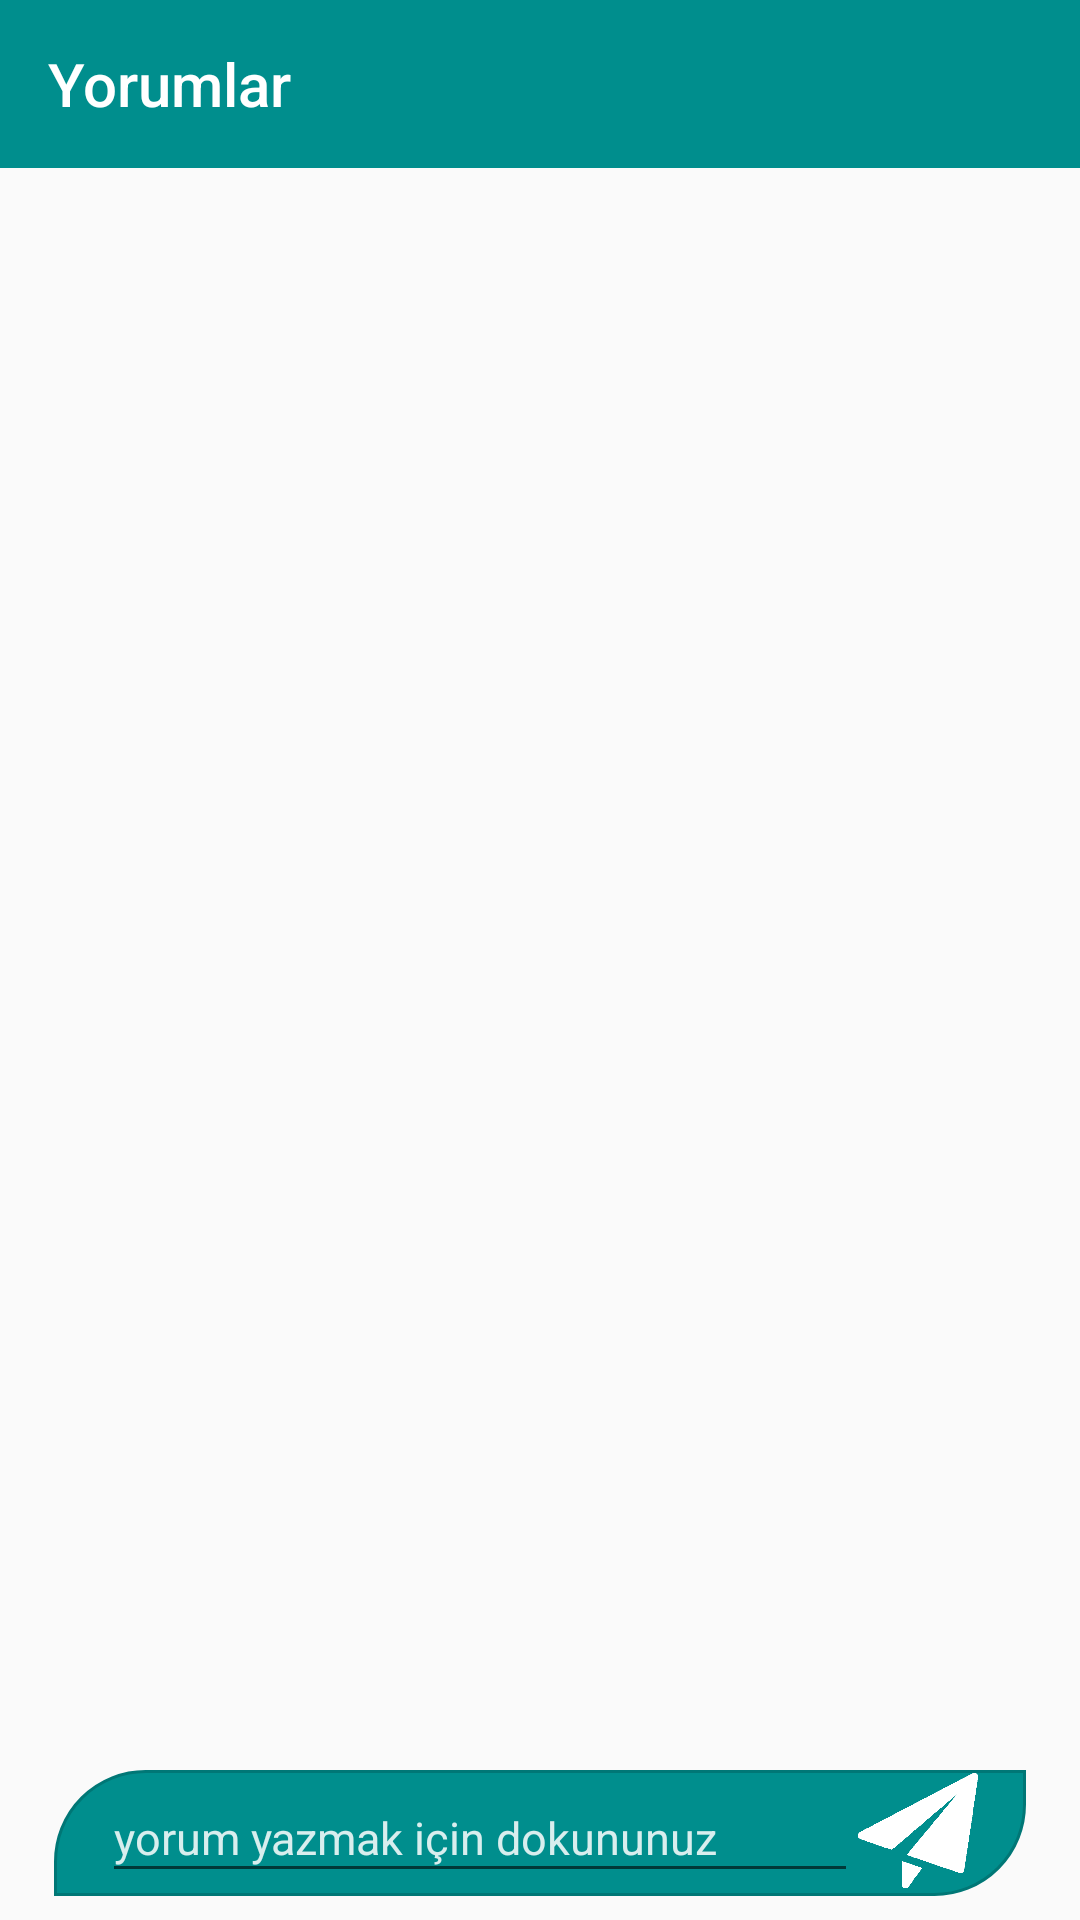

Icons on this 1080 × 1920 Android screen, each with its box as BBox(x1, y1, x2, y2):
send yeni: BBox(858, 1773, 978, 1888)
